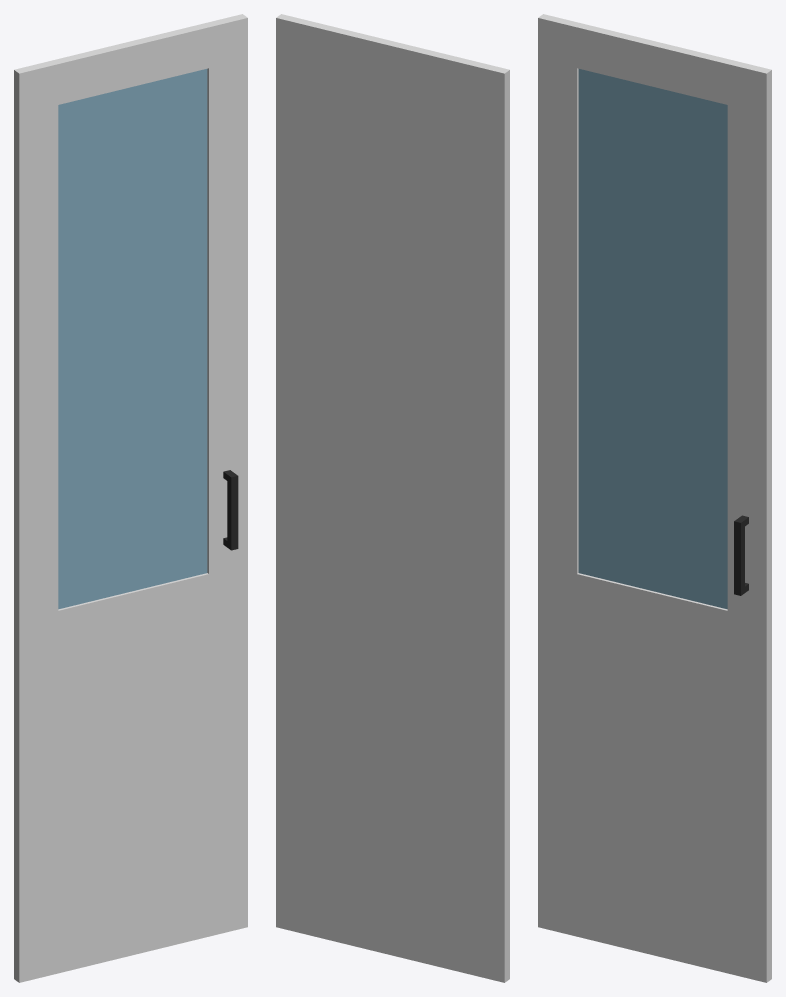
File: Wardrobe1_C1_05.fbx
The picture shows the model from 3 angles, left to right: view 1: azimuth 30°, elevation 25°; view 2: azimuth 150°, elevation 25°; view 3: azimuth 330°, elevation 25°; orthographic projection.
Visible parts, largest first — view 1: Wardrobe1_C1_05; view 2: Wardrobe1_C1_05; view 3: Wardrobe1_C1_05.
Boxes of the visible parts, bbox=[...] form: Wardrobe1_C1_05: bbox=[14, 14, 247, 982]; Wardrobe1_C1_05: bbox=[276, 14, 509, 982]; Wardrobe1_C1_05: bbox=[538, 14, 771, 982].
Size of the model in its own units: 50 by 190 by 5.02.
